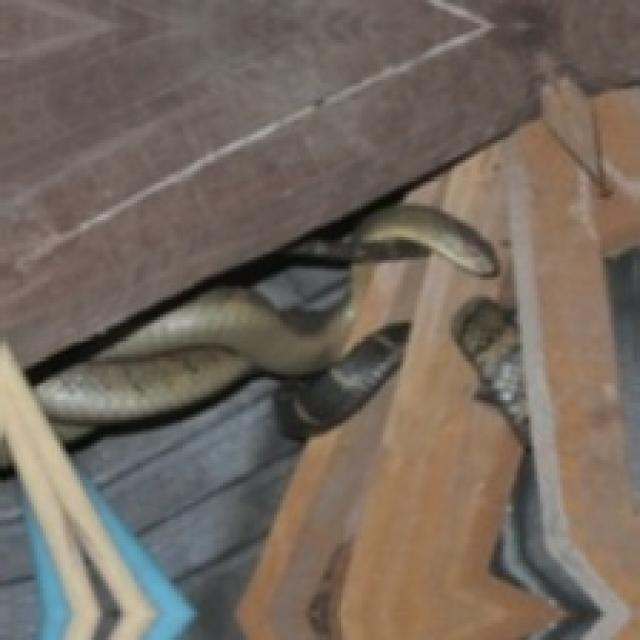king cobra: (34, 271, 357, 440), (286, 203, 494, 274)
